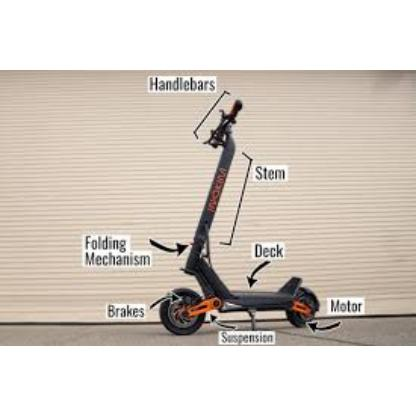bike: (147, 99, 341, 337)
